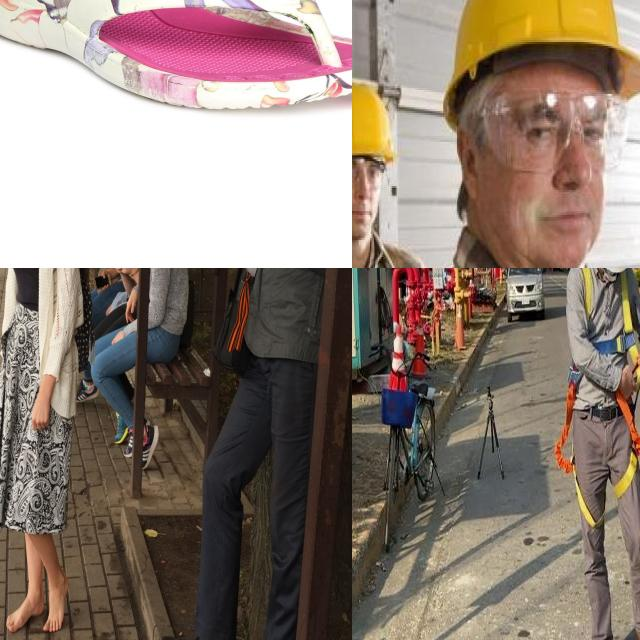Barefoots: (43, 570, 69, 632), (6, 596, 44, 632)
Harness: (554, 367, 604, 528), (578, 268, 640, 388), (612, 390, 640, 500)
No_Ear-Protection: (452, 129, 484, 197)
Sandals: (0, 0, 352, 113)
face_nomask: (503, 92, 611, 244), (352, 159, 383, 232)
glasses: (477, 82, 636, 185), (352, 157, 391, 193)
head_helmet: (441, 0, 640, 103), (352, 81, 396, 165)
person: (391, 0, 640, 268), (352, 75, 457, 268)
